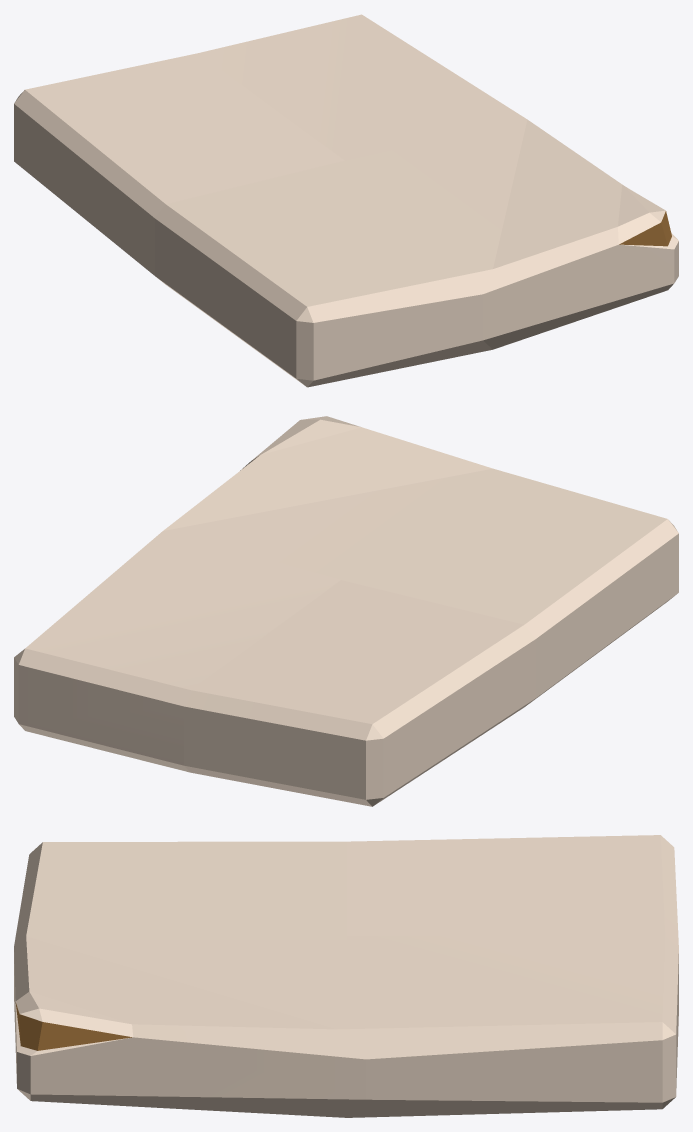
The model's file is apocalypse_mattress-large-apocalypse-a.fbx.
The picture shows the model from 3 angles, top to bottom: view 1: azimuth 30°, elevation 25°; view 2: azimuth 150°, elevation 25°; view 3: azimuth 270°, elevation 25°; orthographic projection. The views are drawn at different scales.
Visible parts, largest first — view 1: apocalypse_mattress_large_apocalypse_a; view 2: apocalypse_mattress_large_apocalypse_a; view 3: apocalypse_mattress_large_apocalypse_a.
Part boxes in pixels (x1=…): apocalypse_mattress_large_apocalypse_a: x1=14, y1=14, x2=678, y2=387; apocalypse_mattress_large_apocalypse_a: x1=14, y1=416, x2=678, y2=806; apocalypse_mattress_large_apocalypse_a: x1=14, y1=835, x2=678, y2=1117.
Bounding box in the file's own units: 142 × 33.44 × 200.
